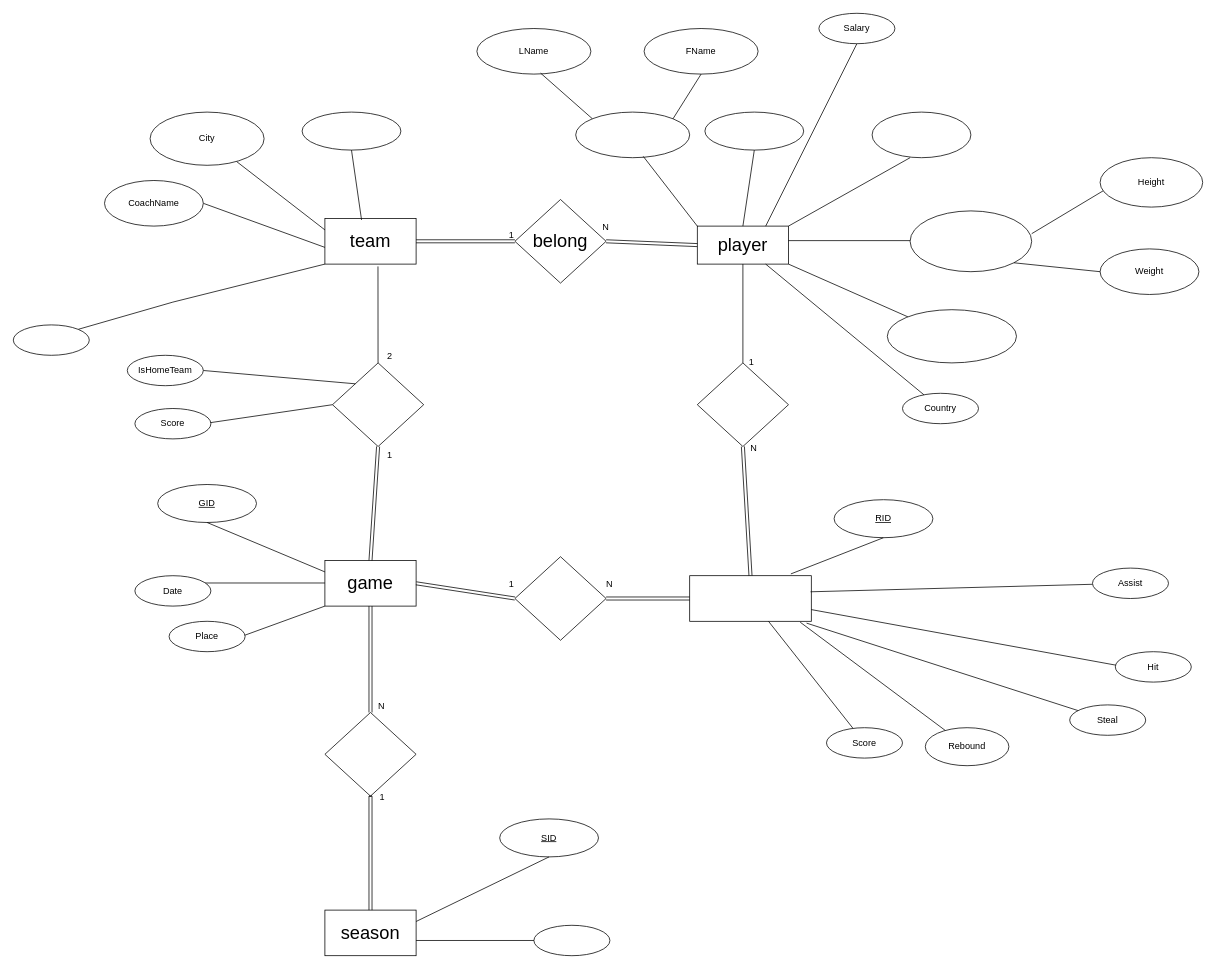
The diagram is 1216 pixels wide and 969 high, and some of its shapes have lost their labels. The centre of each missing label's shape, as x and y in pixels:
"attend" goes at [378,404].
"BDate" goes at [921,134].
"Fitness" goes at [970,241].
"gameRecord" goes at [750,598].
"has" goes at [742,404].
"in" goes at [370,754].
"Name" goes at [632,134].
"PID" goes at [754,130].
"Position" goes at [951,336].
"record" goes at [560,598].
"TID" goes at [351,130].
"year" goes at [571,940].
"yearFounded" goes at [51,339].
